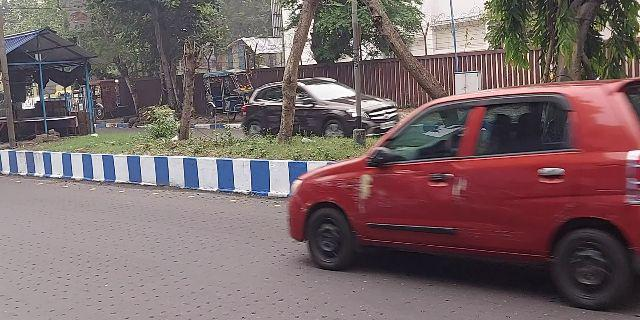Car: (284, 87, 640, 300), (238, 74, 398, 132)
